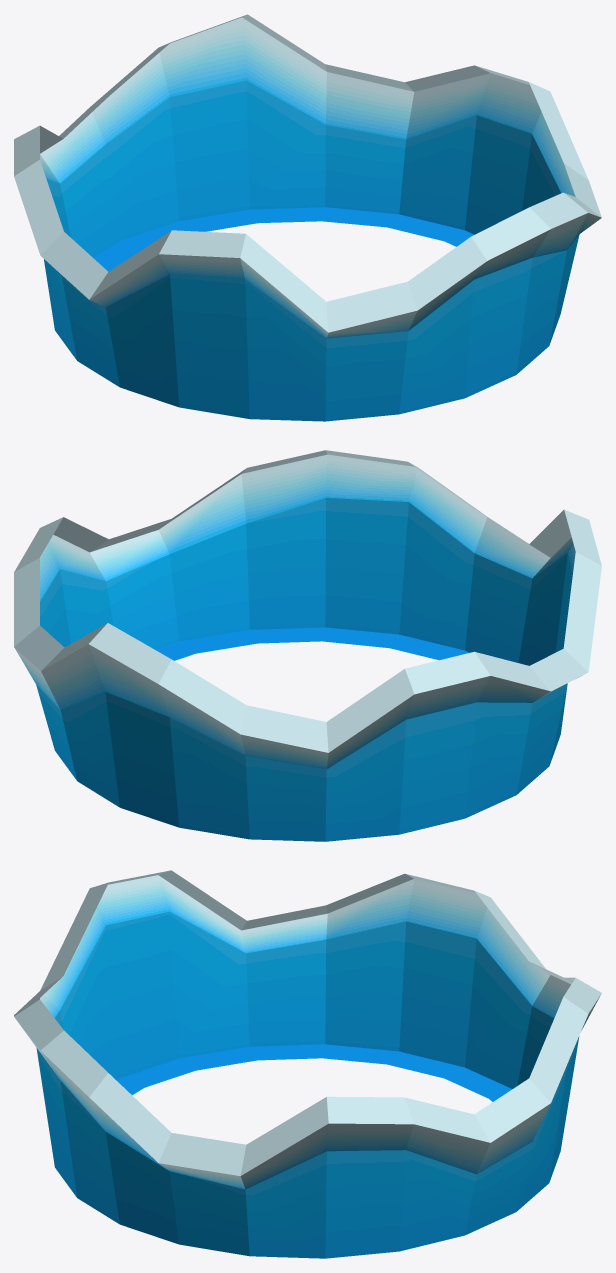
Rendered from waterRing_outer_mod_01.fbx.
3 views of the same model, one above another, from view 1: azimuth 30°, elevation 25°; view 2: azimuth 150°, elevation 25°; view 3: azimuth 270°, elevation 25° (orthographic).
Visible parts, largest first — view 1: waterRing_01; view 2: waterRing_01; view 3: waterRing_01.
Boxes of the visible parts, box(x1,y1,x2,y2) form: waterRing_01: box(14, 14, 601, 421); waterRing_01: box(14, 450, 601, 841); waterRing_01: box(14, 870, 601, 1258).
Size of the model in its own units: 2.32 by 2.31 by 0.8314.
